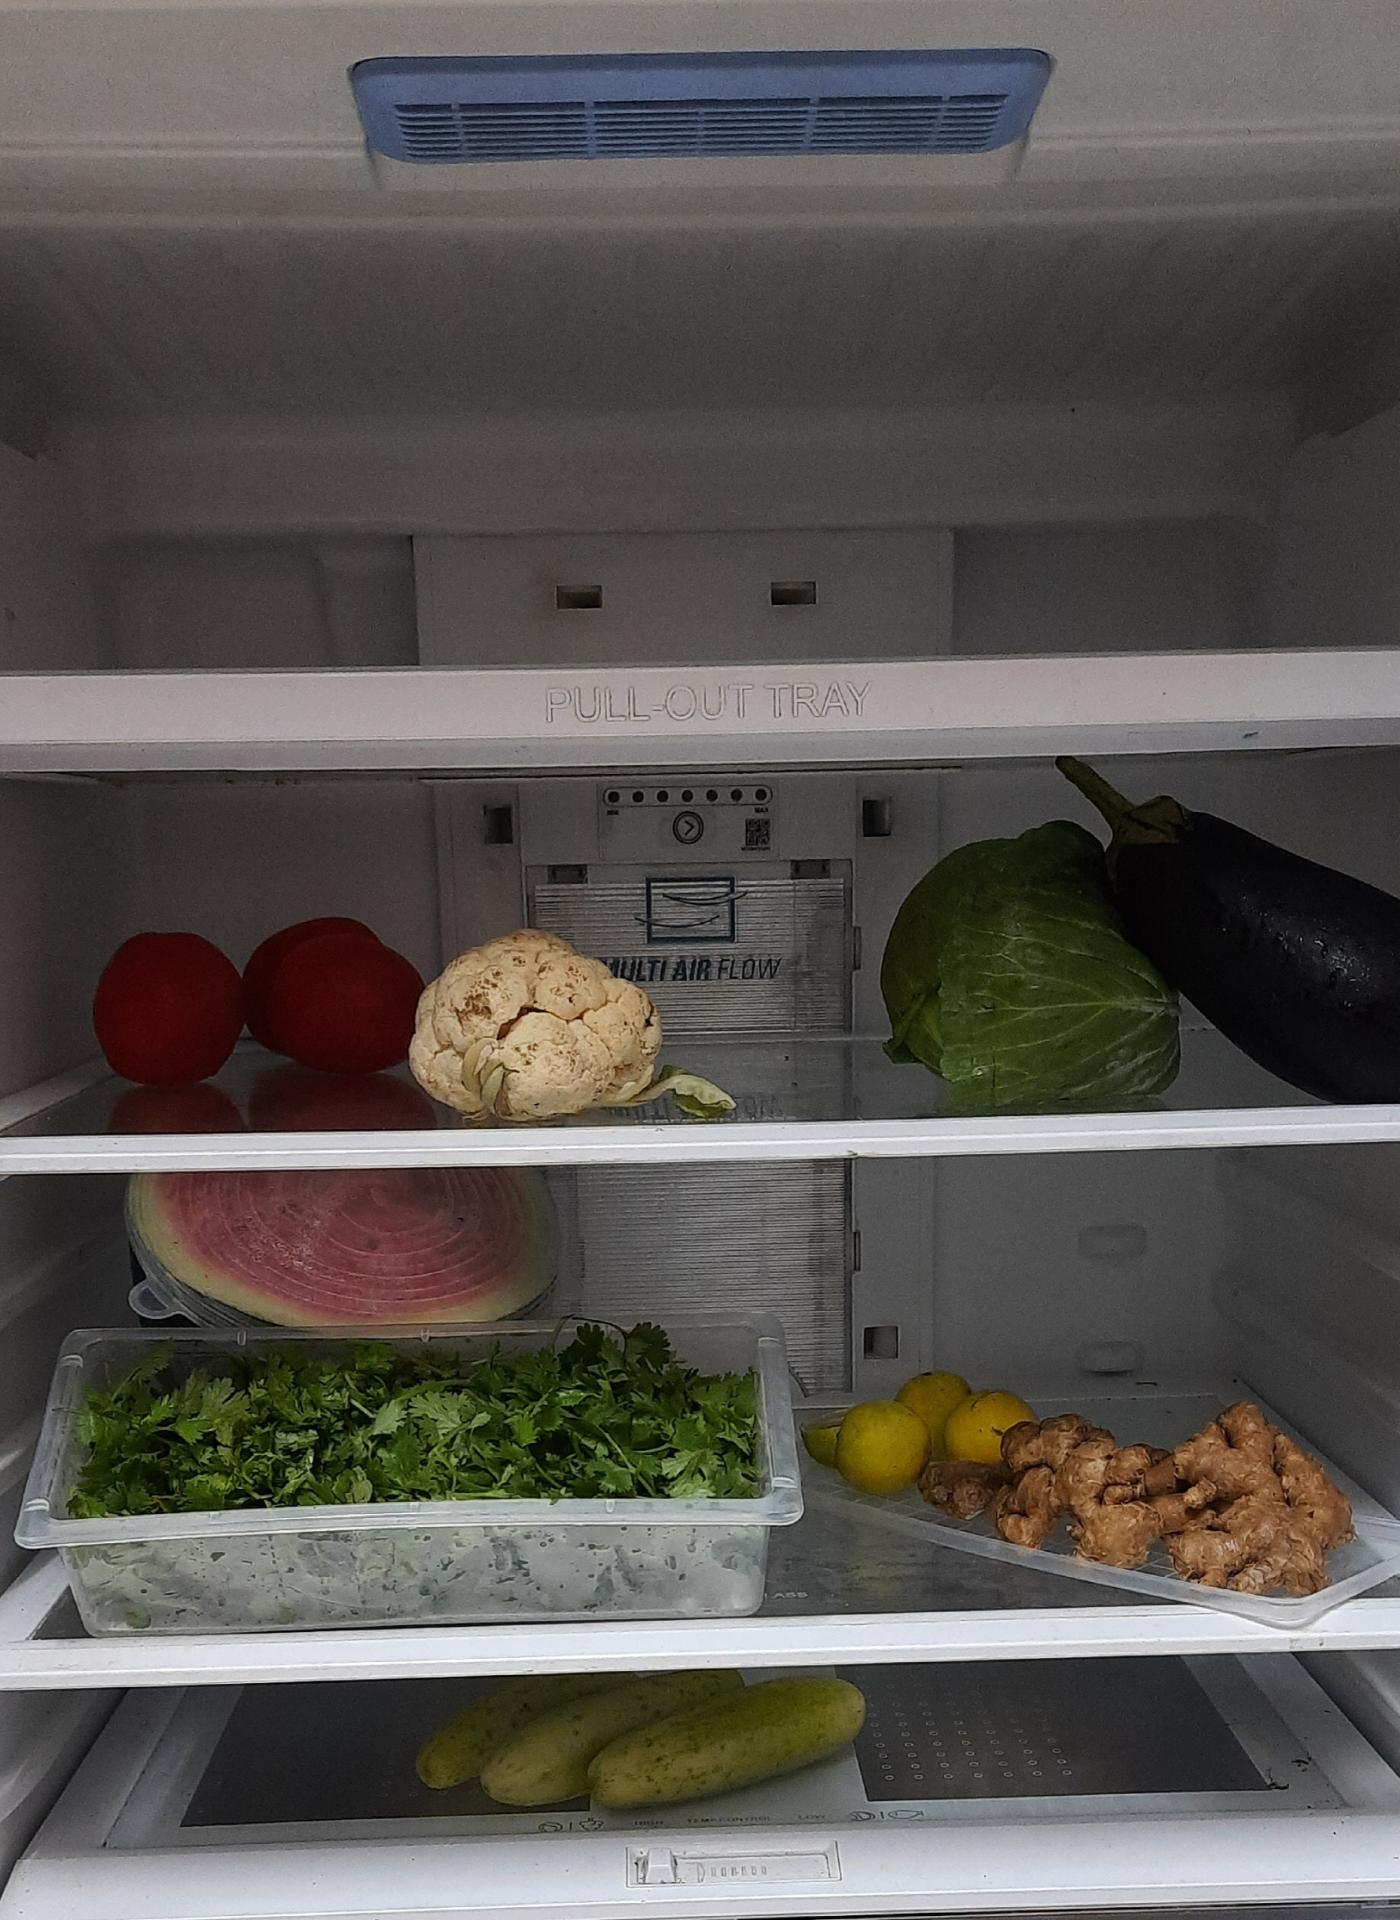carrots: (908, 1386, 1378, 1567)
cauliflower: (409, 926, 675, 1114)
cucumber: (413, 1664, 869, 1804)
lemon: (811, 1370, 1038, 1474)
tomato: (103, 914, 413, 1090)
watermelon: (119, 1172, 552, 1327)
